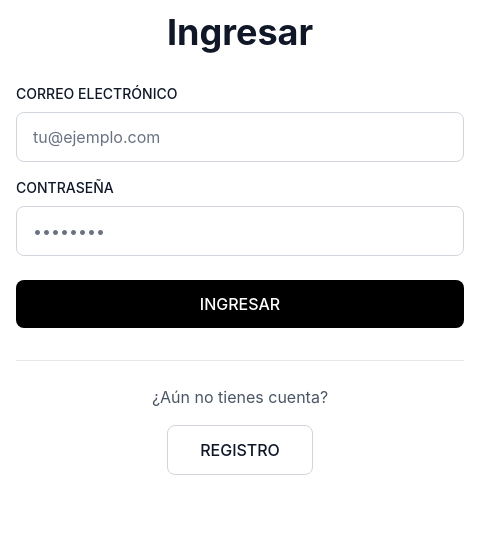
Test: LoginForm › updates input values and clears field error when typing
Click the button "INGRESAR": (240, 304) [16,280,464,328]
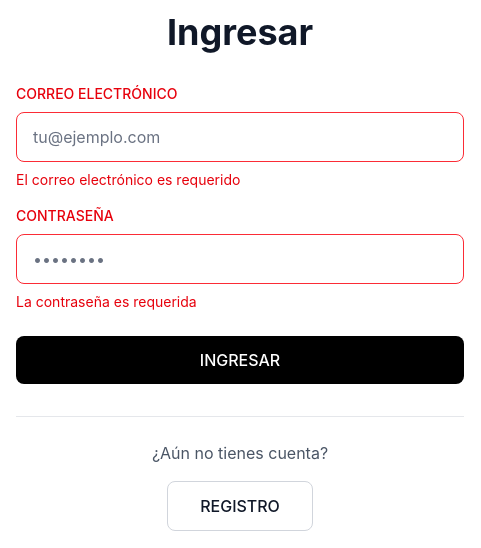
Expected: the text "El correo electrónico es requerido" is shown, [16,171,240,188]
In the field labelled "CORREO ELECTRÓNICO": (240, 137) [16,112,464,162], type "test@example.com"
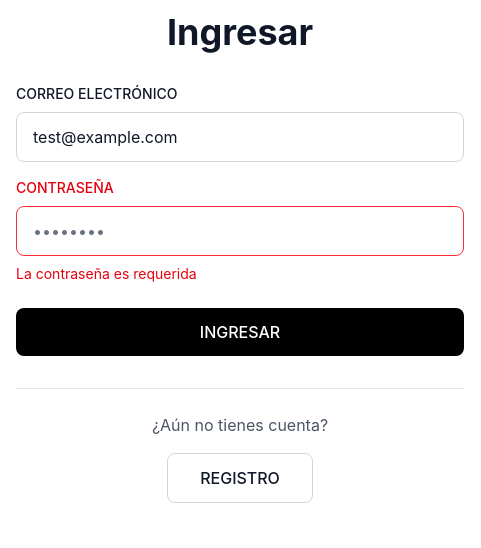
Expected: the text "El correo electrónico es requerido" is gone
